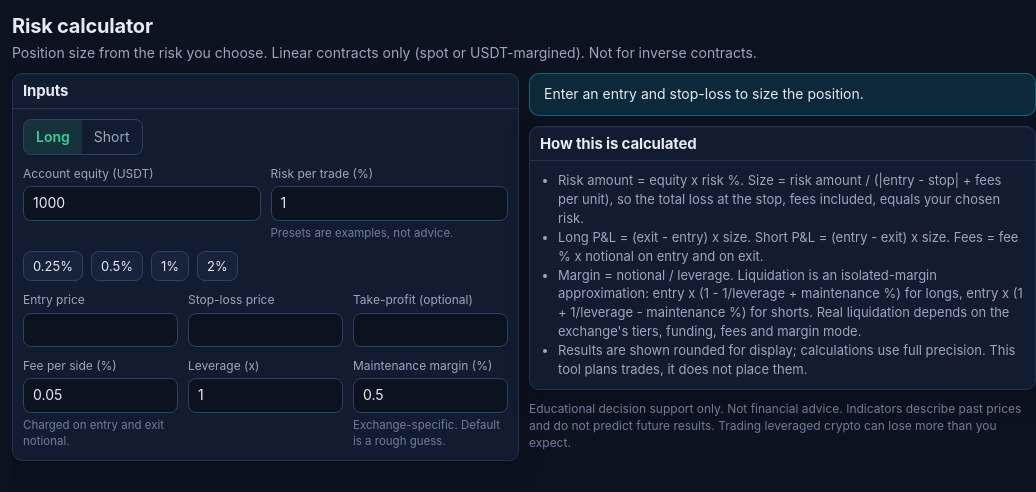
Test: UI smoke tests (network failing, as when offline) › risk calculator shows an error for a wrong-side stop
Step 1. Type "100" into the field labelled "Entry price" → (100, 330), box [23,313,178,347]
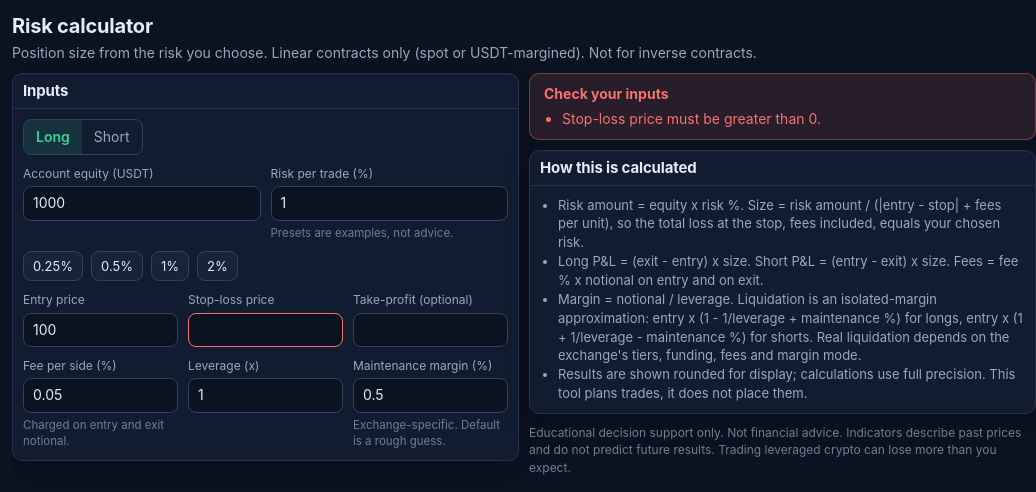
Step 2. Type "105" into the field labelled "Stop-loss price" → (266, 330), box [188,313,343,347]
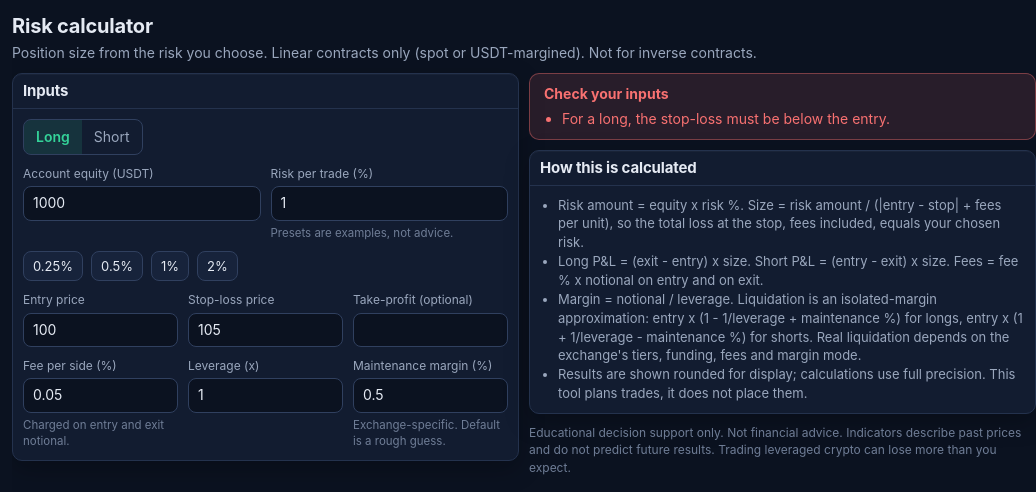
Now the list item "For a long, the stop-loss must be below the entry." is shown, box [562,109,890,129]
